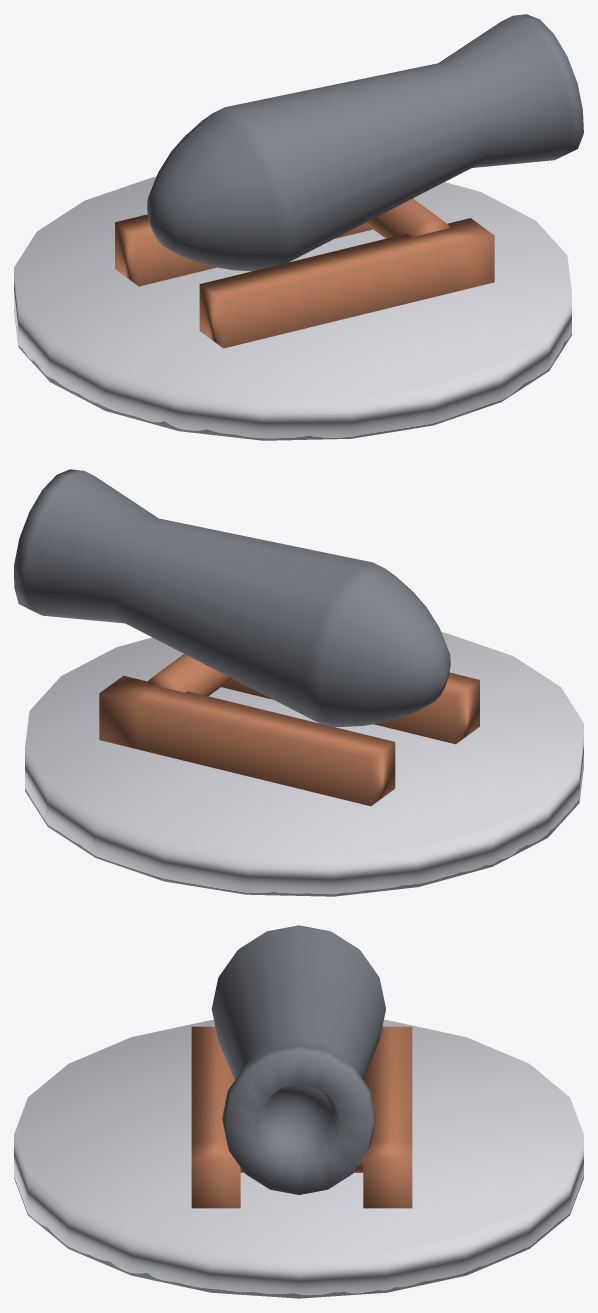
The model's file is cannon.fbx.
The picture shows the model from 3 angles, top to bottom: view 1: azimuth 30°, elevation 25°; view 2: azimuth 150°, elevation 25°; view 3: azimuth 270°, elevation 25°; orthographic projection.
Visible parts, largest first — view 1: pCylinder3, pCylinder1, pCube2, pCube1, pCylinder2; view 2: pCylinder3, pCylinder1, pCube1, pCube2, pCylinder2; view 3: pCylinder3, pCylinder1, pCube1, pCube2.
Boxes of the visible parts, x1=… form: pCylinder3: x1=14, y1=177, x2=571, y2=440; pCylinder1: x1=147, y1=14, x2=583, y2=271; pCube2: x1=199, y1=218, x2=494, y2=348; pCube1: x1=115, y1=214, x2=372, y2=286; pCylinder2: x1=365, y1=198, x2=449, y2=238; pCylinder3: x1=25, y1=632, x2=583, y2=896; pCylinder1: x1=14, y1=469, x2=450, y2=726; pCube1: x1=99, y1=675, x2=395, y2=806; pCube2: x1=221, y1=672, x2=479, y2=744; pCylinder2: x1=147, y1=654, x2=232, y2=696; pCylinder3: x1=14, y1=1020, x2=583, y2=1298; pCylinder1: x1=211, y1=925, x2=385, y2=1194; pCube1: x1=363, y1=1026, x2=412, y2=1208; pCube2: x1=191, y1=1026, x2=240, y2=1208.
Size of the model in its own units: 11.65 by 5.4 by 11.23.
